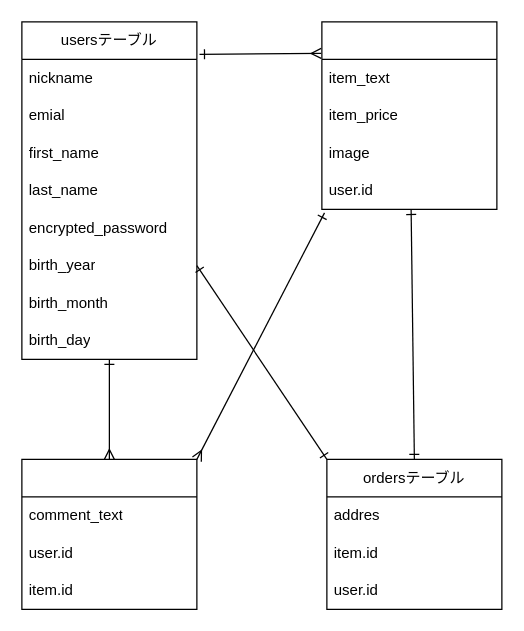
Image size: 524x631. Some labels were removed from this diagram. The box of each missing label's shape, as (x1, y1, x2, y2) in pixels:
commentsテーブル: (21, 458, 197, 609)
itemsテーブル: (321, 21, 497, 209)
